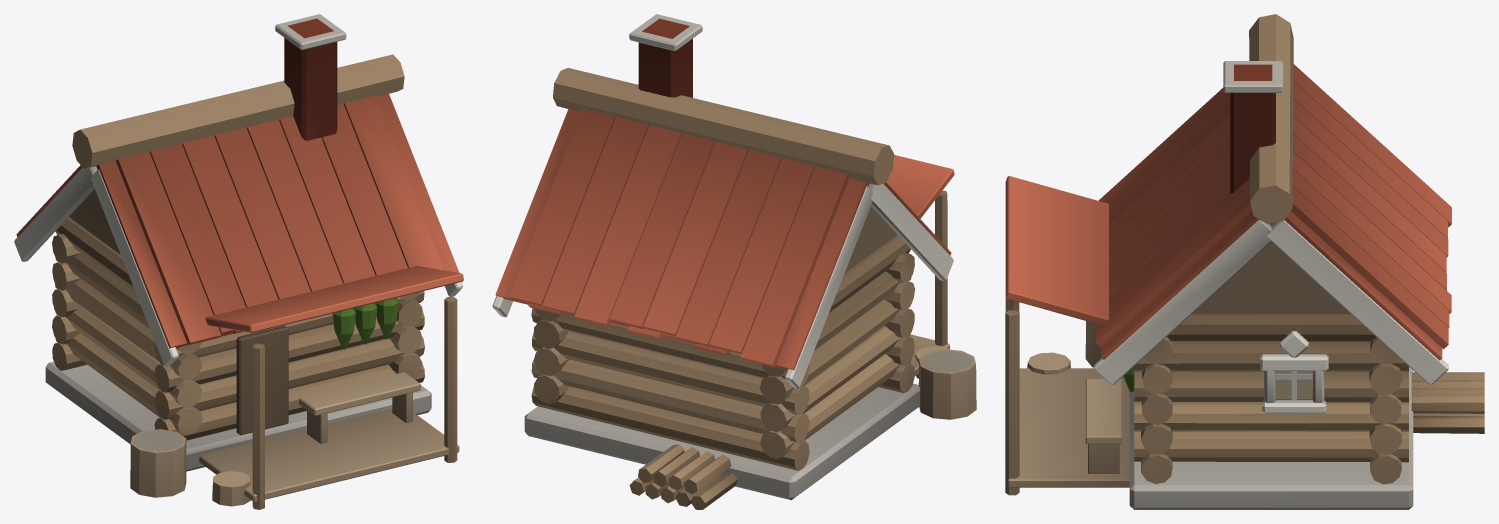
The model's file is bld_banya_e1.glb.
3 renders of one model, left to right at view 1: azimuth 30°, elevation 25°; view 2: azimuth 150°, elevation 25°; view 3: azimuth 270°, elevation 25°, orthographic. The views are drawn at different scales.
Parts seen in each view (by area): view 1: banya; view 2: banya; view 3: banya.
Part boxes in pixels (bbox=[...]): banya: bbox=[14, 14, 463, 509]; banya: bbox=[492, 14, 976, 509]; banya: bbox=[1005, 14, 1484, 509].
Size of the model in its own units: 0.9268 by 0.97 by 1.05.
